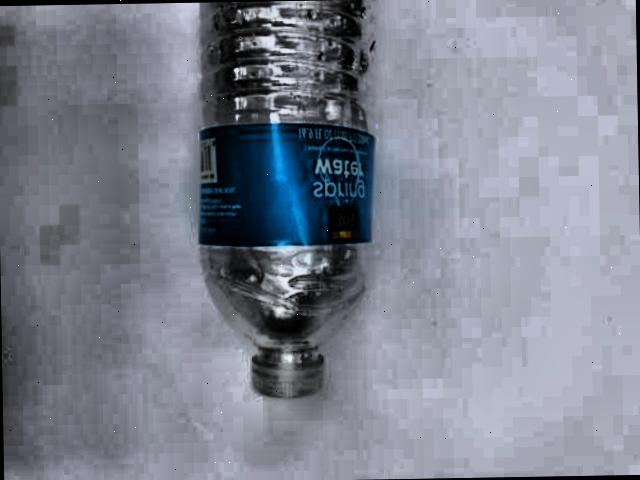Bottles: (184, 0, 392, 435)
